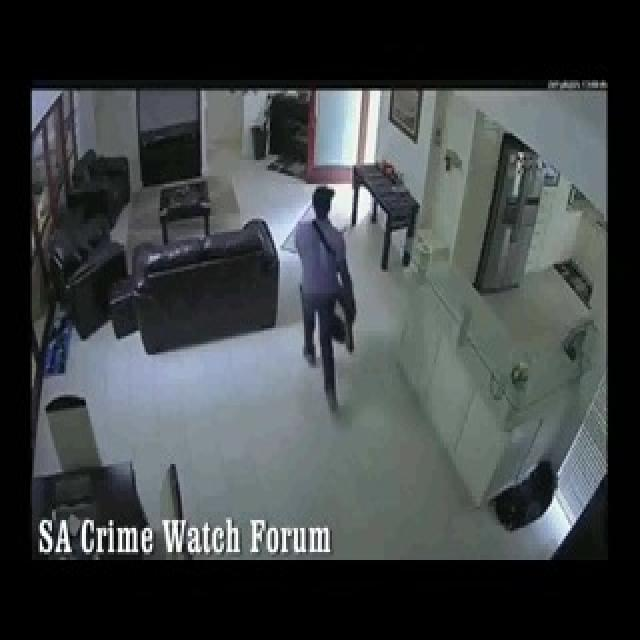thief: (283, 185, 368, 399)
